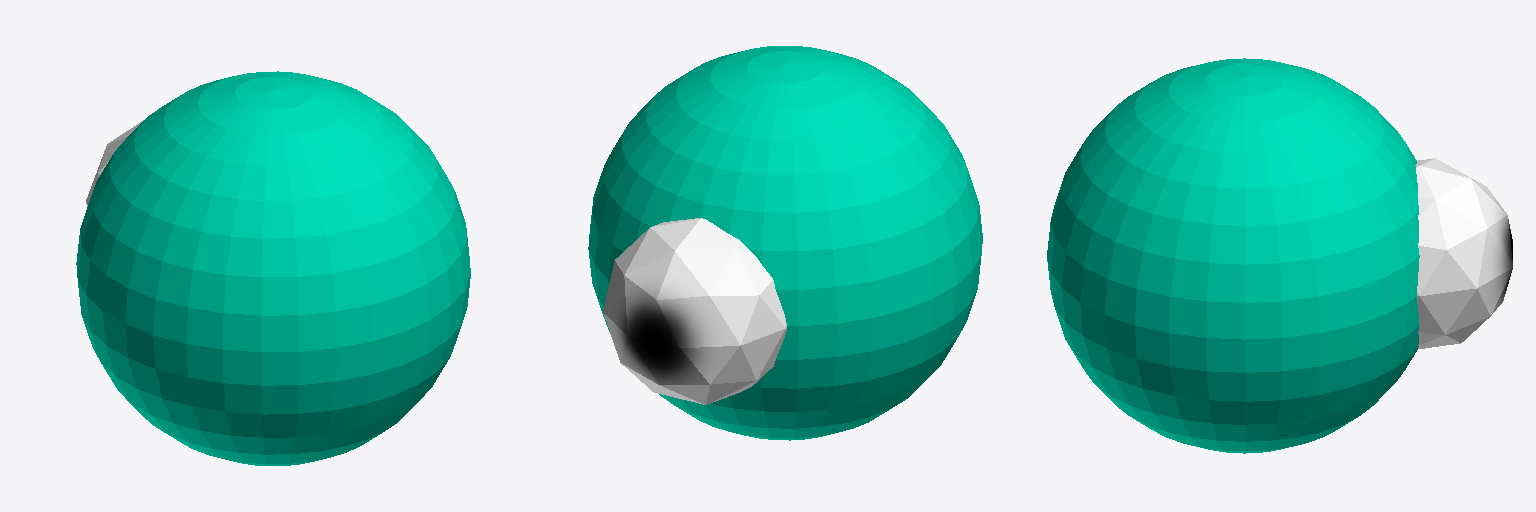
3 renders of one model, left to right at view 1: azimuth 30°, elevation 25°; view 2: azimuth 150°, elevation 25°; view 3: azimuth 270°, elevation 25°, orthographic.
Visible parts, largest first — view 1: 球, ICO球; view 2: 球, ICO球; view 3: 球, ICO球.
Part boxes in pixels (bbox=[...]): 球: bbox=[76, 71, 470, 465]; ICO球: bbox=[86, 120, 143, 206]; 球: bbox=[588, 46, 982, 440]; ICO球: bbox=[603, 218, 786, 404]; 球: bbox=[1047, 58, 1419, 453]; ICO球: bbox=[1415, 158, 1512, 348].
Bounding box in the file's own units: 8.64 × 8.64 × 10.19.
Materials: 2 (1 with a texture image).